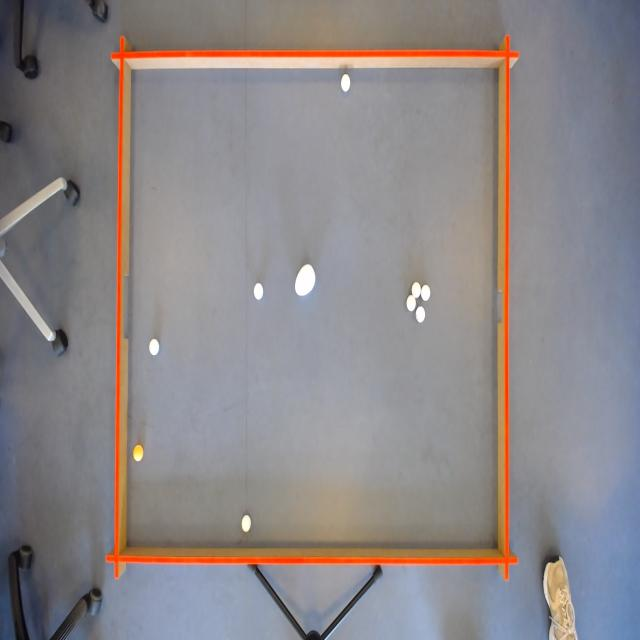egg: (293, 261, 317, 300)
orange_ball: (132, 442, 145, 464)
white_ball: (339, 71, 353, 95), (147, 336, 161, 358), (240, 512, 252, 536), (420, 282, 432, 304), (414, 304, 426, 326), (253, 280, 265, 302), (410, 280, 422, 300), (406, 294, 416, 314)
